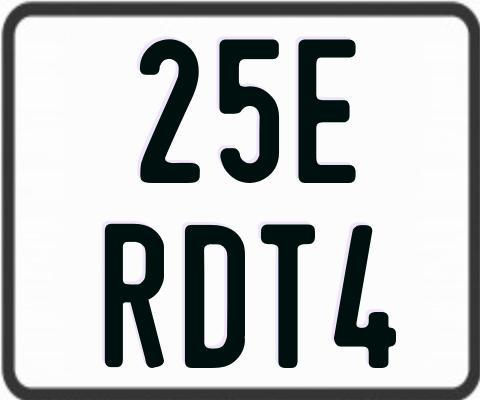2: (139, 39, 204, 189)
4: (333, 222, 397, 369)
5: (219, 38, 281, 182)
D: (182, 222, 242, 369)
E: (297, 37, 358, 184)
R: (104, 221, 169, 370)
T: (260, 223, 318, 367)
